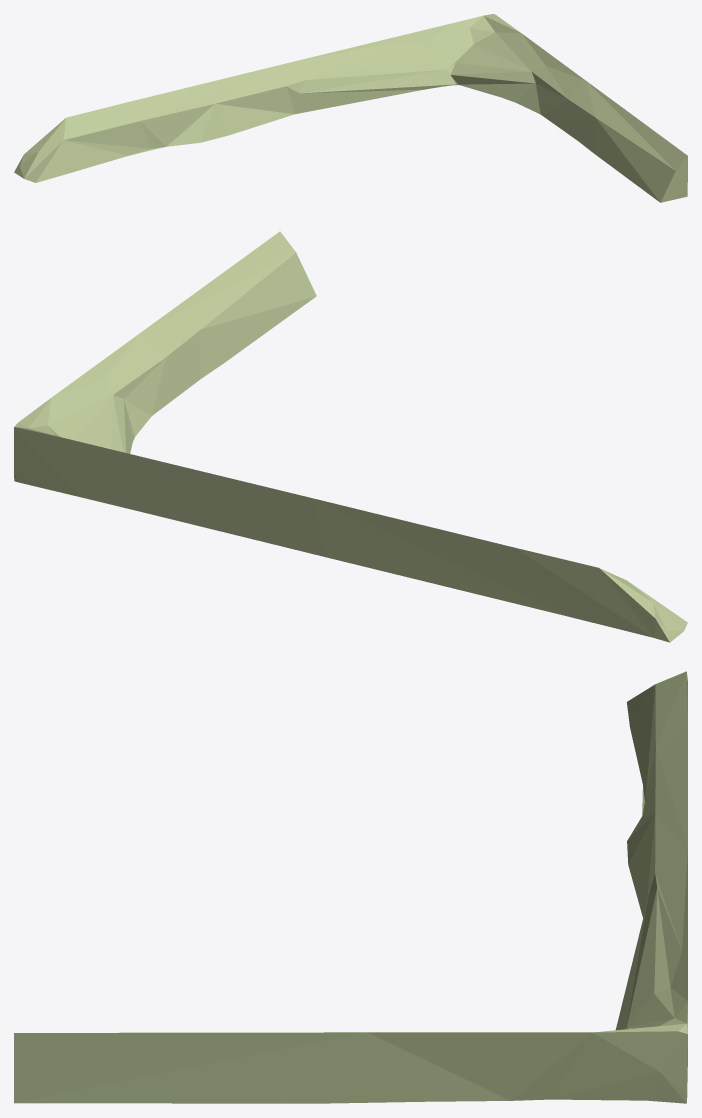
File: hill_3.gltf
3 renders of one model, top to bottom at view 1: azimuth 30°, elevation 25°; view 2: azimuth 150°, elevation 25°; view 3: azimuth 270°, elevation 25°, orthographic. The views are drawn at different scales.
Visible parts, largest first — view 1: hill; view 2: hill; view 3: hill.
Boxes of the visible parts, box(x1,y1,x2,y2) form: hill: box(14, 14, 687, 202); hill: box(14, 231, 687, 642); hill: box(14, 671, 687, 1103).
Size of the model in its own units: 7.26 by 0.6147 by 5.1.
